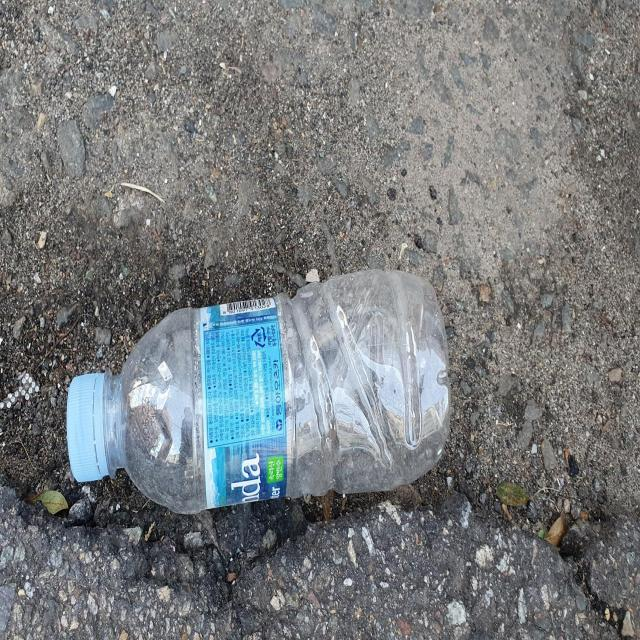plastic: (66, 270, 451, 513)
